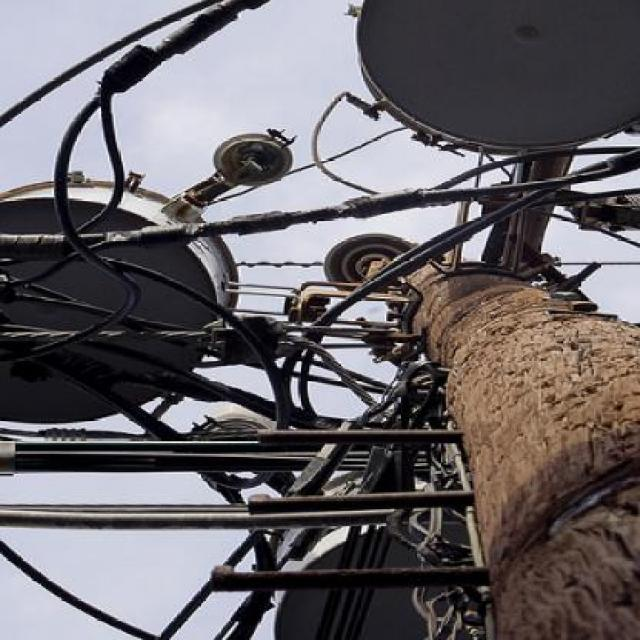pole: (132, 6, 640, 640)
